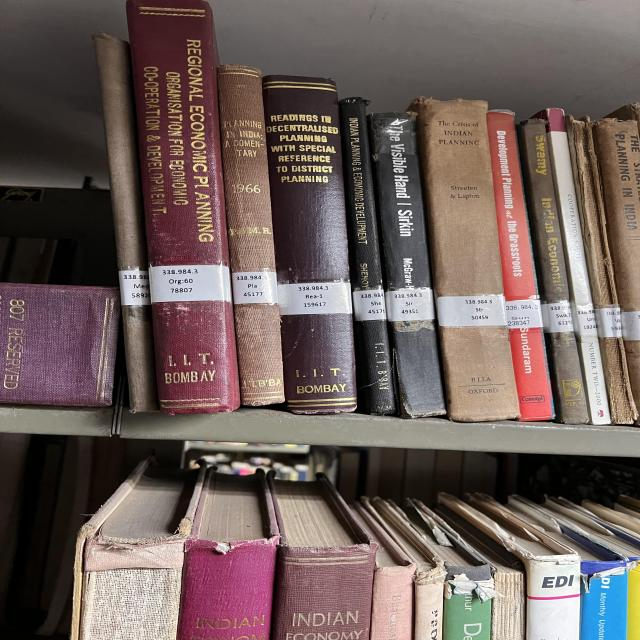Book: (127, 0, 240, 415), (410, 98, 518, 421), (263, 75, 357, 414), (217, 65, 285, 406), (370, 112, 445, 418), (565, 115, 638, 424), (518, 119, 590, 424), (487, 110, 555, 421), (548, 130, 612, 425), (340, 98, 397, 415)
Label: (148, 265, 232, 302), (278, 282, 352, 315), (437, 295, 507, 328), (385, 288, 435, 321), (232, 271, 278, 304), (505, 299, 543, 329), (118, 270, 150, 305), (352, 289, 387, 321), (542, 301, 573, 332), (593, 308, 622, 338)
